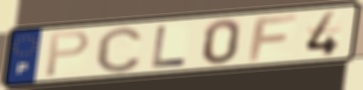0: (201, 17, 244, 67)
4: (303, 10, 341, 57)
C: (94, 25, 146, 75)
F: (246, 12, 300, 63)
L: (149, 24, 188, 69)
P: (43, 29, 92, 79)
